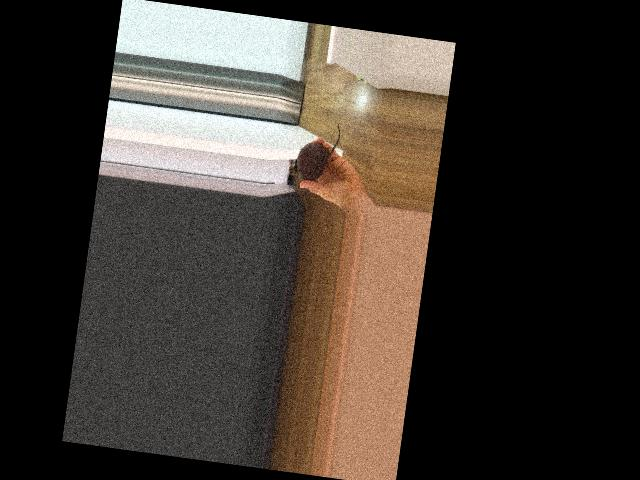beet: (293, 118, 341, 183)
